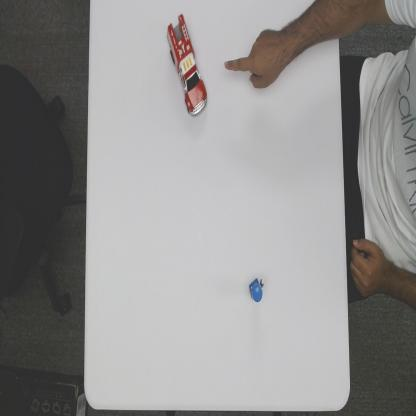Arm: (288, 0, 338, 63)
Firetruck: (166, 12, 208, 119)
Hand: (223, 27, 287, 91)
